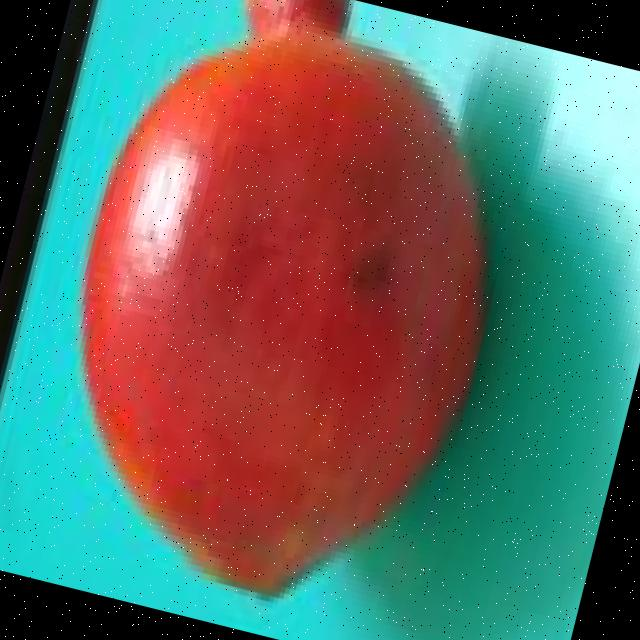Bad_Pomegranate-0-1-day: (9, 0, 552, 634)
